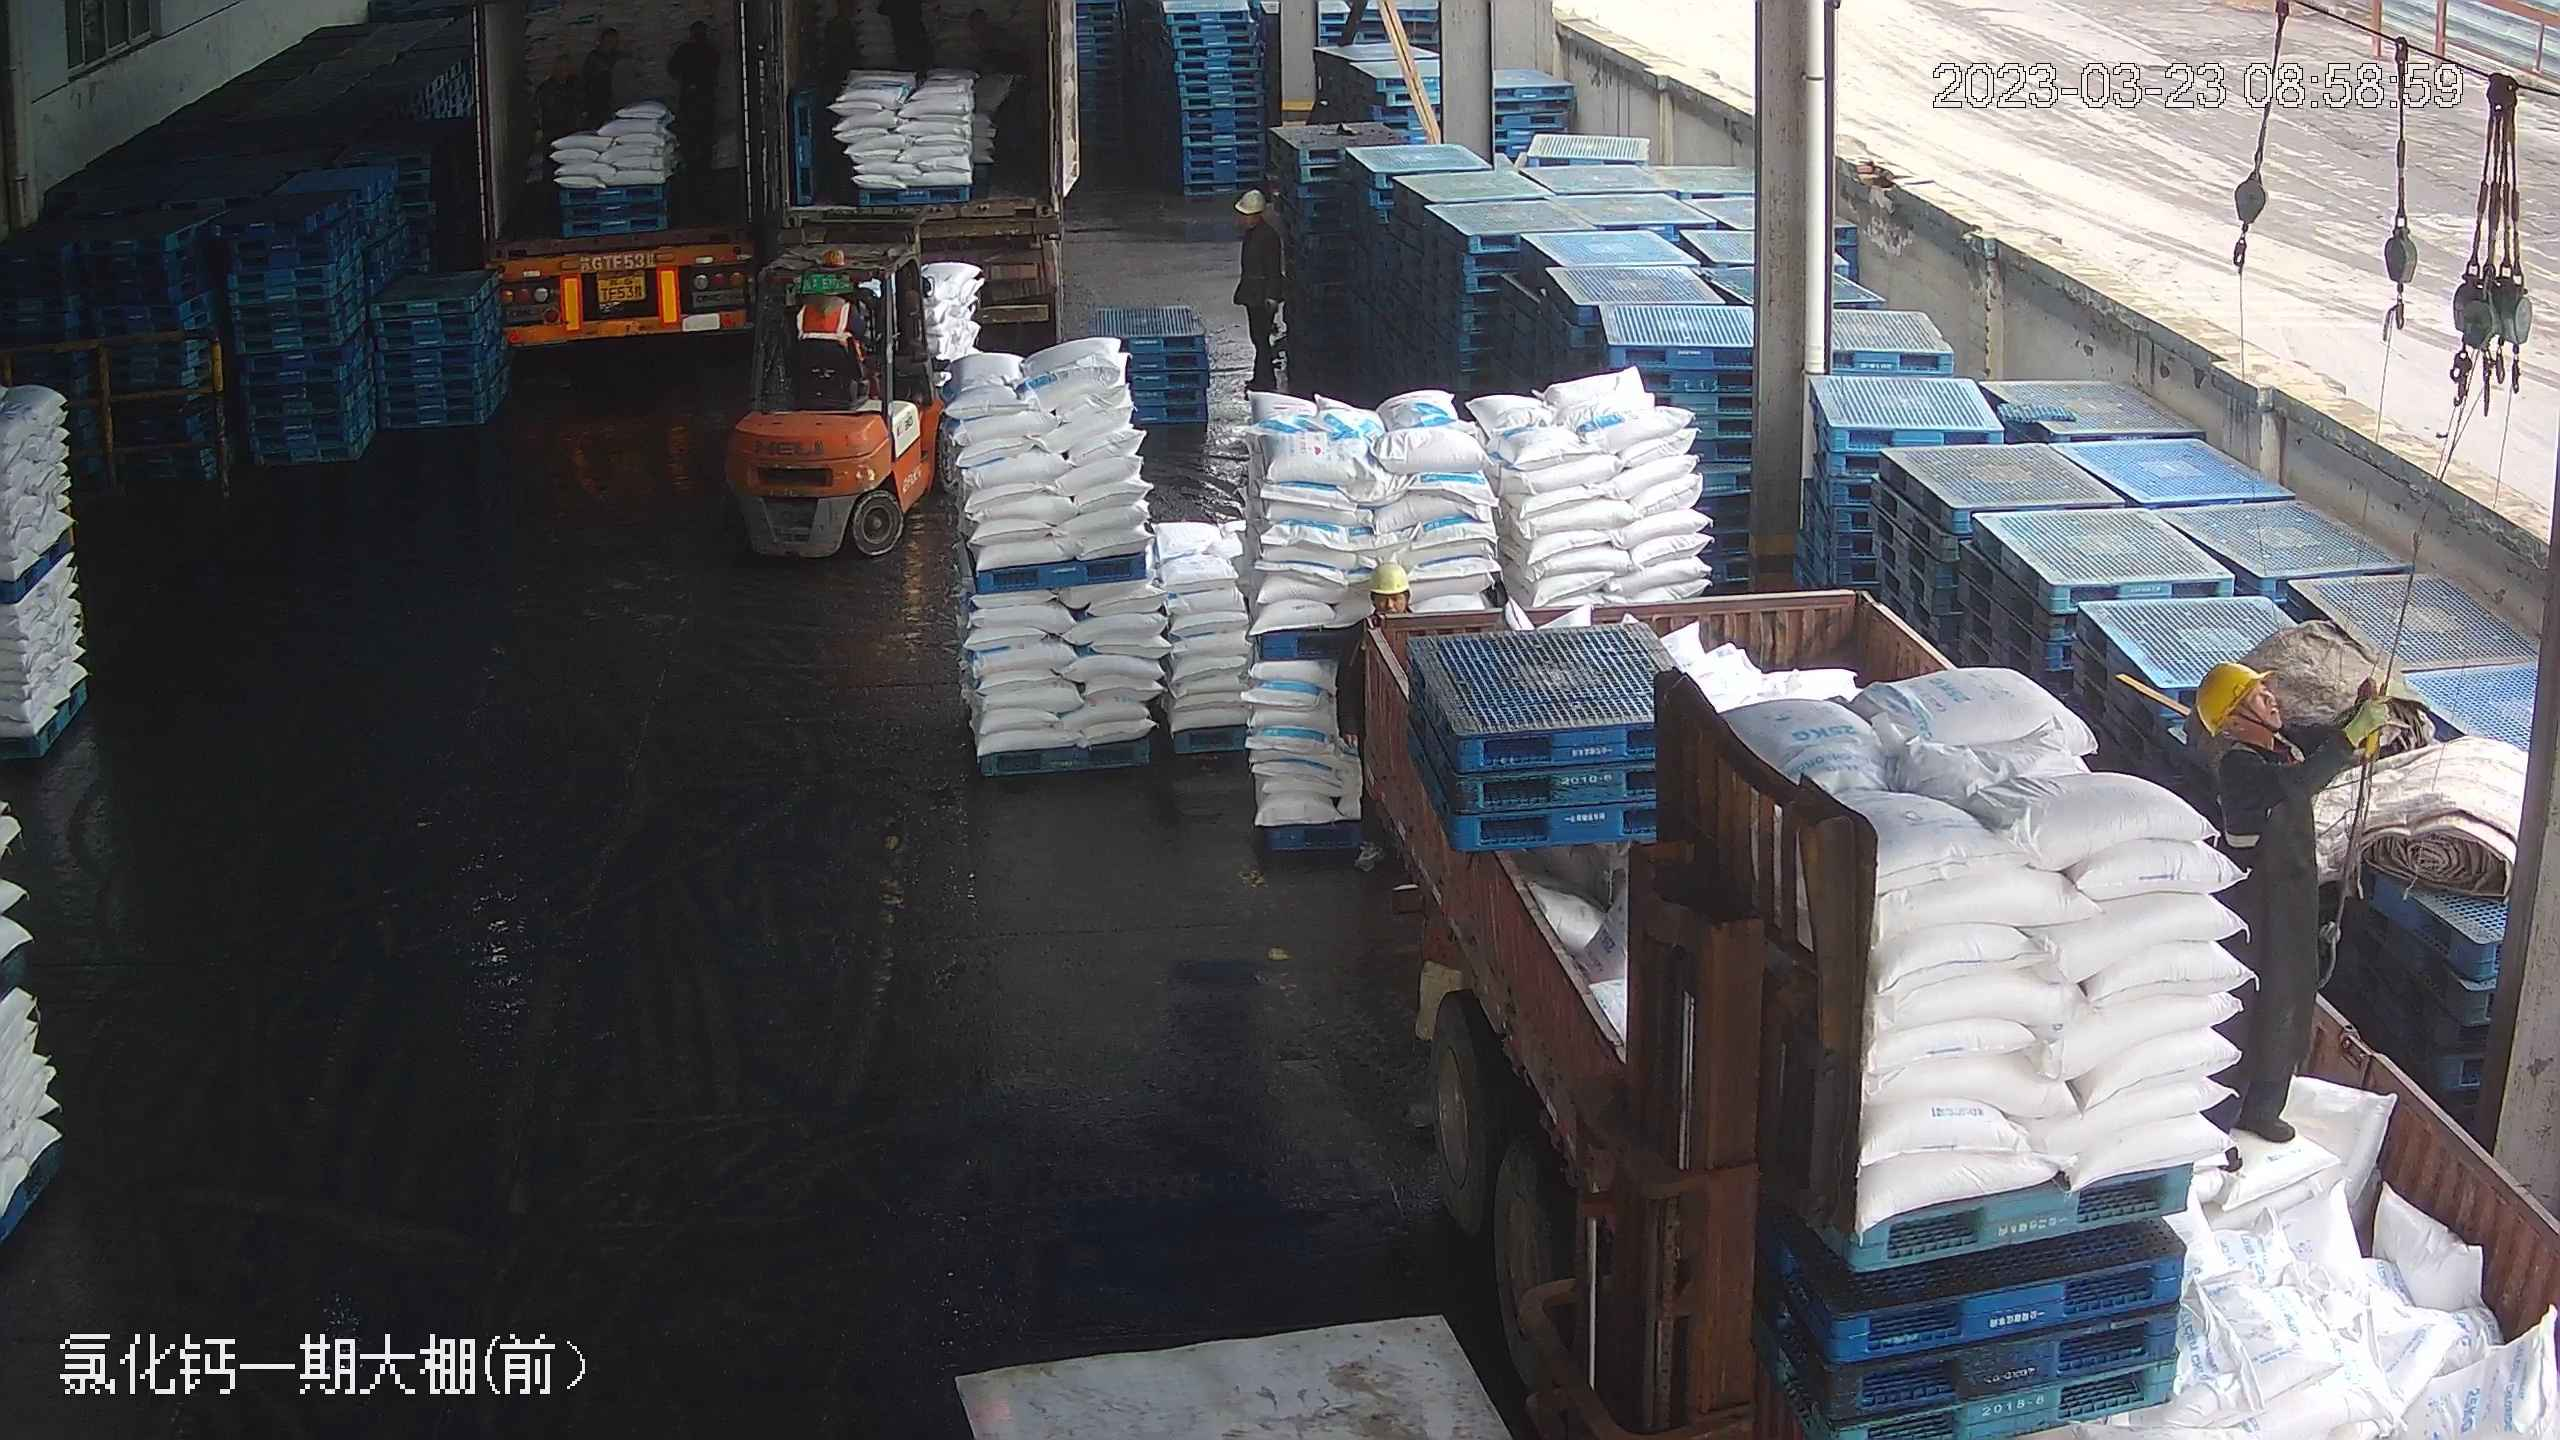head: (2189, 655, 2332, 793), (1234, 187, 1282, 256), (674, 20, 719, 77), (537, 52, 582, 110), (585, 28, 624, 82)
helmet: (2190, 656, 2266, 738), (1362, 554, 1415, 595), (1240, 187, 1272, 213)
people: (2195, 651, 2380, 1168), (1234, 186, 1291, 401), (672, 21, 724, 194), (536, 51, 583, 192), (582, 25, 622, 128)
truck: (1273, 312, 2543, 1436), (463, 18, 776, 347)
